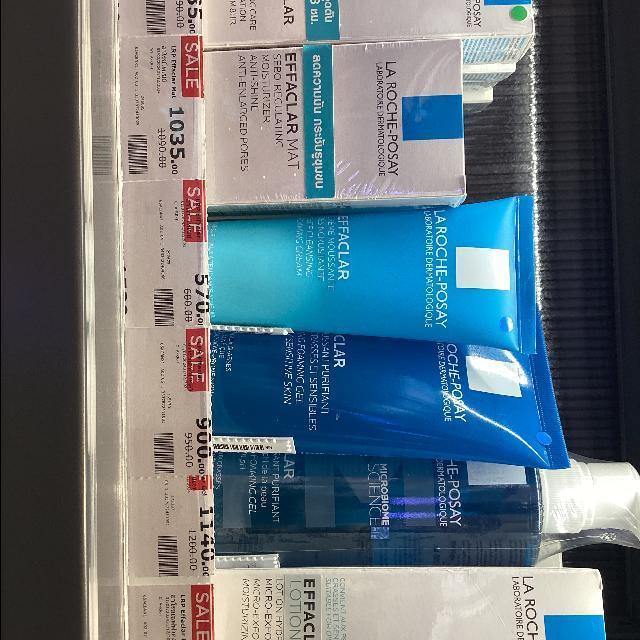Squeeze Tube: (141, 123, 578, 475), (202, 196, 541, 356), (207, 329, 554, 485)
